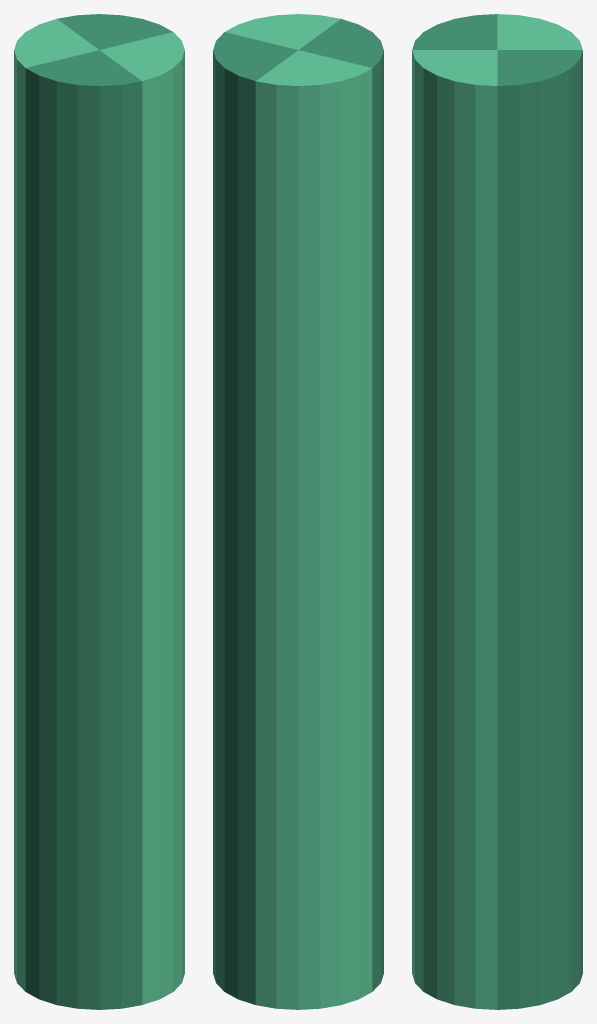
The picture shows the model from 3 angles, left to right: view 1: azimuth 30°, elevation 25°; view 2: azimuth 150°, elevation 25°; view 3: azimuth 270°, elevation 25°; orthographic projection.
Visible parts, largest first — view 1: model_3_NOSIMPLIFY; view 2: model_3_NOSIMPLIFY; view 3: model_3_NOSIMPLIFY.
Part boxes in pixels (x1,y1,x2,y2): model_3_NOSIMPLIFY: (14,14,184,1009); model_3_NOSIMPLIFY: (213,14,383,1009); model_3_NOSIMPLIFY: (412,14,582,1009).
Size of the model in its own units: 0.07 by 0.418 by 0.07.
